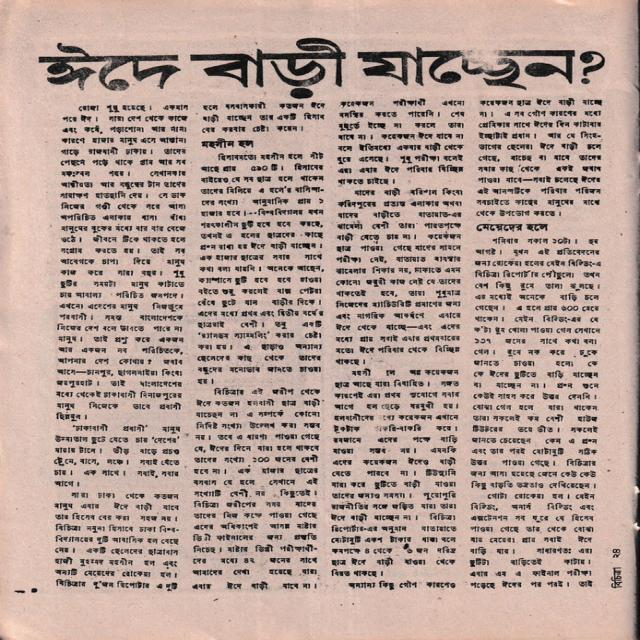page number: (612, 548, 622, 558)
paragraph: (465, 234, 603, 589), (53, 105, 189, 421), (195, 151, 325, 385), (328, 364, 463, 579), (191, 385, 320, 590), (333, 188, 463, 367), (473, 96, 604, 235), (55, 489, 179, 591), (333, 98, 464, 186), (53, 424, 181, 487), (196, 98, 331, 149), (346, 579, 456, 591)
text: (610, 566, 624, 588)
title: (32, 37, 604, 98)
